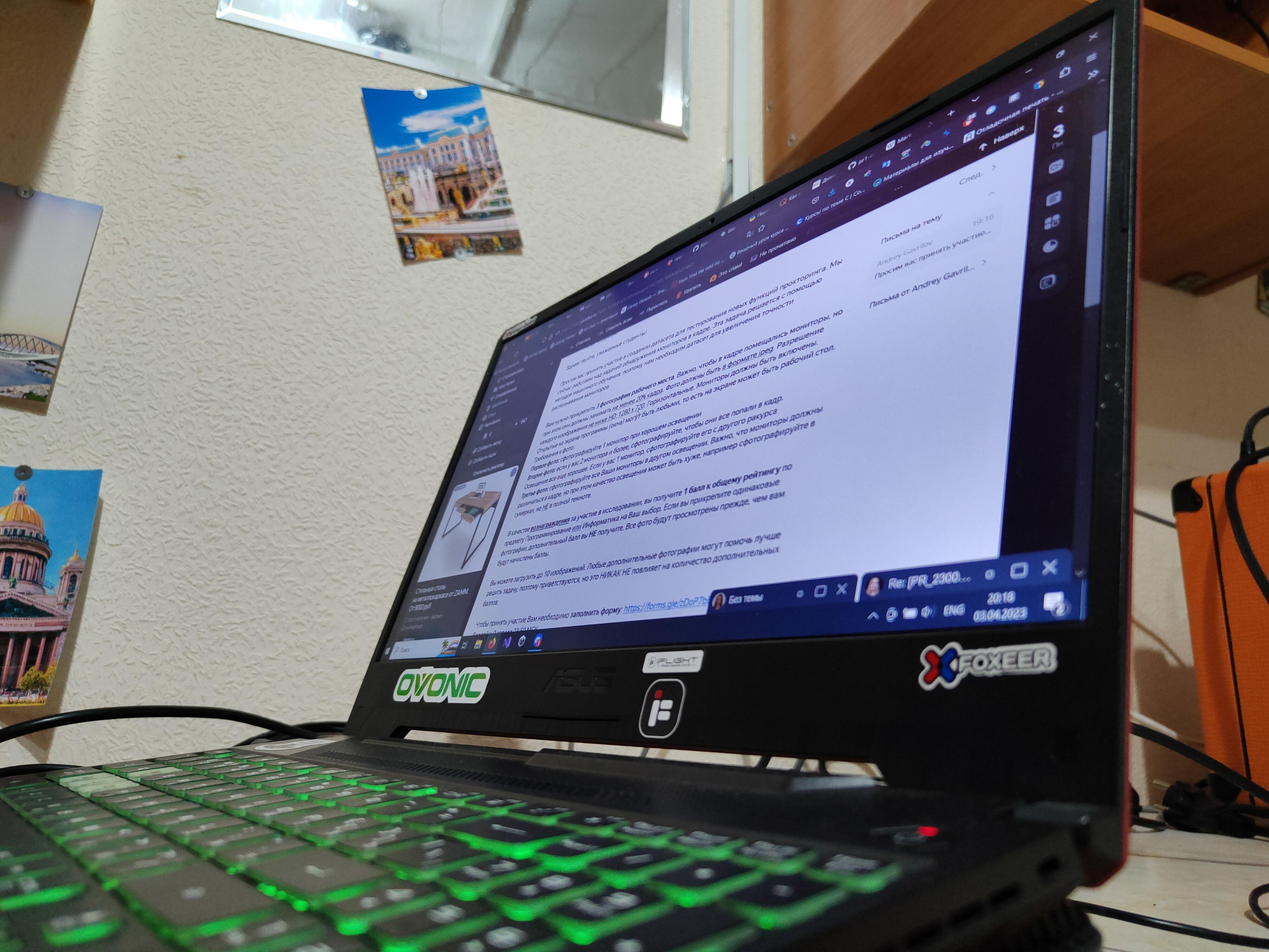monitor: (341, 0, 1150, 839)
